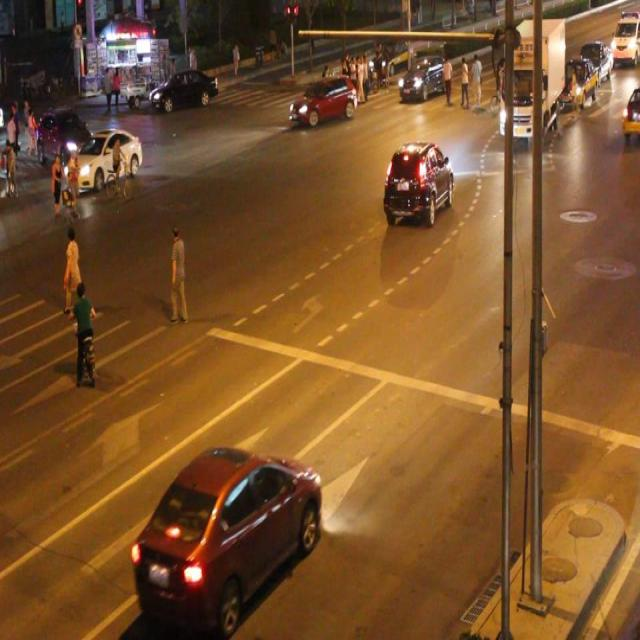bus: (495, 19, 565, 148)
car: (123, 445, 322, 625), (384, 139, 452, 225), (70, 129, 142, 191), (289, 77, 355, 129), (150, 71, 218, 114), (44, 109, 91, 164), (396, 53, 447, 101), (620, 88, 640, 140)
